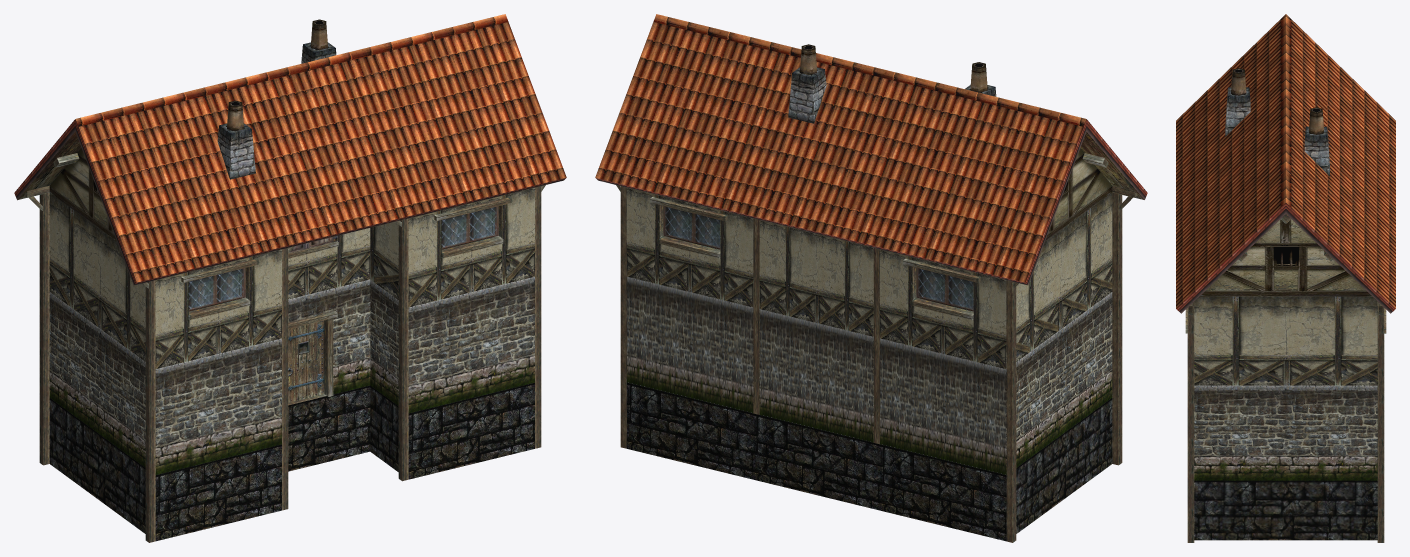
Rendered from S_bld21a.glb.
3 renders of one model, left to right at view 1: azimuth 30°, elevation 25°; view 2: azimuth 150°, elevation 25°; view 3: azimuth 270°, elevation 25°, orthographic. The views are drawn at different scales.
Parts seen in each view (by area): view 1: S_bld21a; view 2: S_bld21a; view 3: S_bld21a.
Boxes of the visible parts, bbox=[...] form: S_bld21a: bbox=[14, 14, 566, 542]; S_bld21a: bbox=[595, 14, 1147, 542]; S_bld21a: bbox=[1176, 14, 1395, 542].
Bounding box in the file's own units: 13.6 × 12.35 × 6.7.
12 materials, 12 textured.
